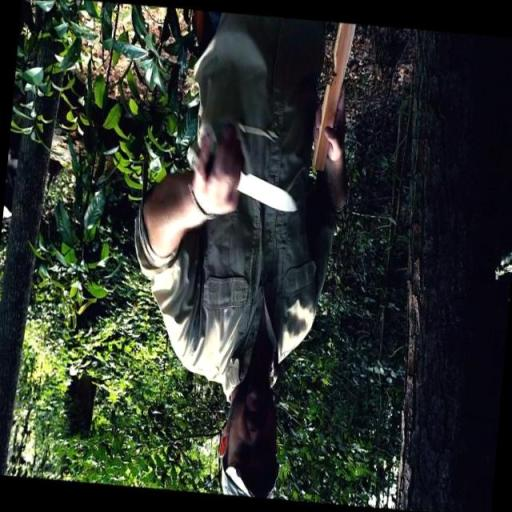knife: (182, 138, 304, 212)
